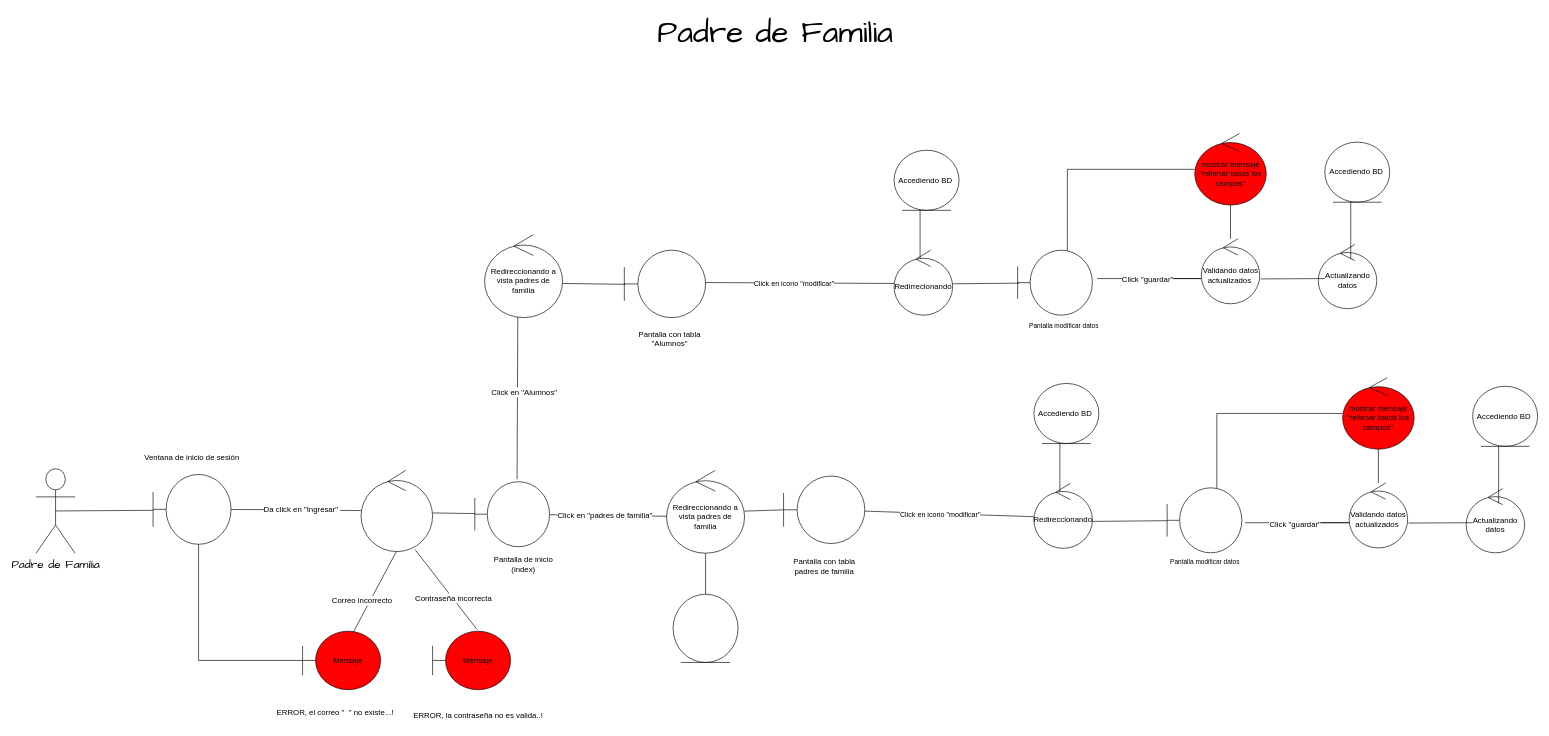
This 1549x736 diagram has some shape labels left out. Each missing label, with the centre of its shape:
"Accediendo BD Rol/Permiso" goes at point (705, 628).
"Validando correo y contraseña" goes at point (396, 511).
